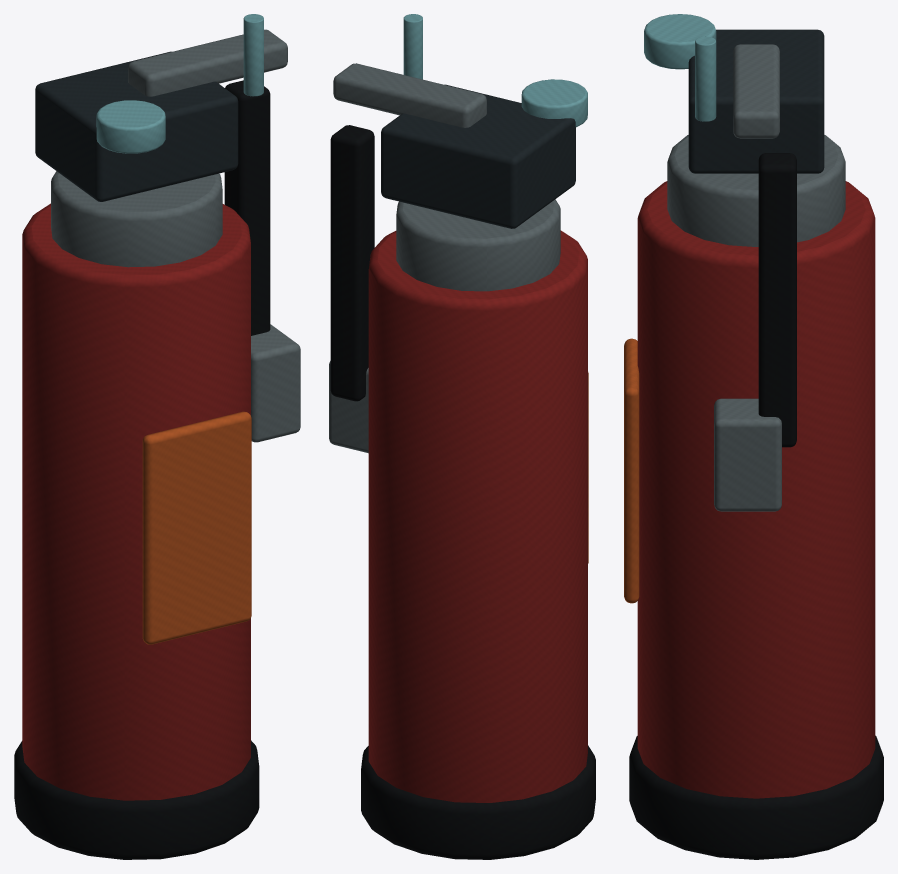
File: FireExtinguisher.fbx
3 renders of one model, left to right at view 1: azimuth 30°, elevation 25°; view 2: azimuth 150°, elevation 25°; view 3: azimuth 270°, elevation 25°, orthographic. The views are drawn at different scales.
Visible parts, largest first — view 1: FireExtinguisher_Mesh; view 2: FireExtinguisher_Mesh; view 3: FireExtinguisher_Mesh.
Boxes of the visible parts, x1,y1,x2,y2 form: FireExtinguisher_Mesh: (14,14,300,859); FireExtinguisher_Mesh: (329,14,595,859); FireExtinguisher_Mesh: (624,14,883,859).
Bounding box in the file's own units: 35.5 × 106 × 30.6.
6 materials, 6 textured.
